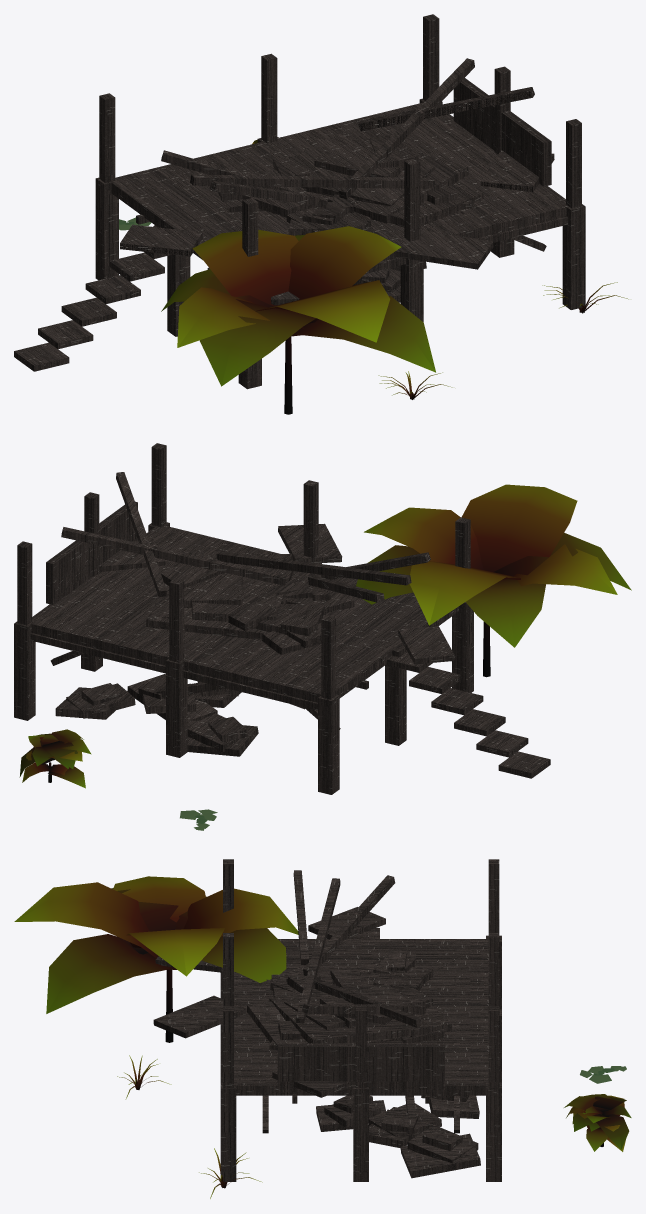
Rendered from nha_san_03.glb.
The picture shows the model from 3 angles, top to bottom: view 1: azimuth 30°, elevation 25°; view 2: azimuth 150°, elevation 25°; view 3: azimuth 270°, elevation 25°; orthographic projection. The views are drawn at different scales.
Parts seen in each view (by area): view 1: nha_san_03, nha_san_03_veg_00_banana_b; view 2: nha_san_03, nha_san_03_veg_00_banana_b, nha_san_03_veg_01_bush_a; view 3: nha_san_03, nha_san_03_veg_00_banana_b, nha_san_03_veg_01_bush_a.
Boxes of the visible parts, box(x1,y1,x2,y2) form: nha_san_03: box(14, 14, 585, 389); nha_san_03_veg_00_banana_b: box(161, 226, 435, 414); nha_san_03: box(14, 443, 550, 794); nha_san_03_veg_00_banana_b: box(356, 484, 631, 677); nha_san_03_veg_01_bush_a: box(19, 729, 91, 788); nha_san_03: box(153, 859, 501, 1181); nha_san_03_veg_00_banana_b: box(14, 876, 298, 1042); nha_san_03_veg_01_bush_a: box(564, 1094, 631, 1151).
Bounding box in the file's own units: 9.32 × 3.27 × 10.2.
Materials: 5 (5 with a texture image).
